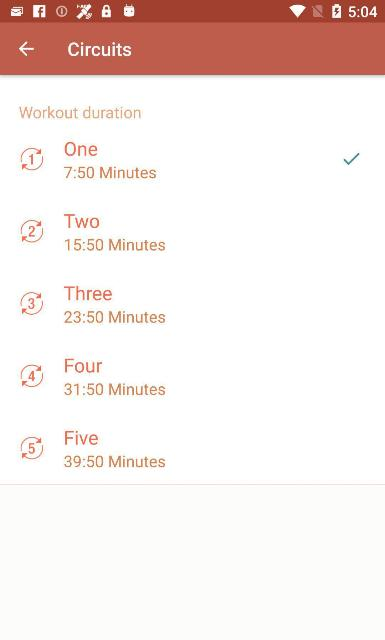Icon: (342, 152, 359, 166), (18, 42, 34, 56)
Image: (20, 364, 44, 388), (20, 436, 44, 459), (20, 292, 44, 314), (20, 220, 44, 242), (20, 148, 44, 170)
List: (0, 131, 385, 485)
Text: (19, 105, 141, 118), (64, 382, 166, 396), (64, 455, 166, 467), (64, 311, 164, 323), (65, 238, 165, 250), (64, 166, 156, 178), (68, 42, 131, 56), (64, 286, 112, 300), (66, 358, 102, 372), (64, 214, 100, 228), (64, 142, 97, 156), (66, 431, 98, 445)
Toolbar: (1, 24, 384, 74)
UpperTaskBar: (0, 0, 384, 22)
